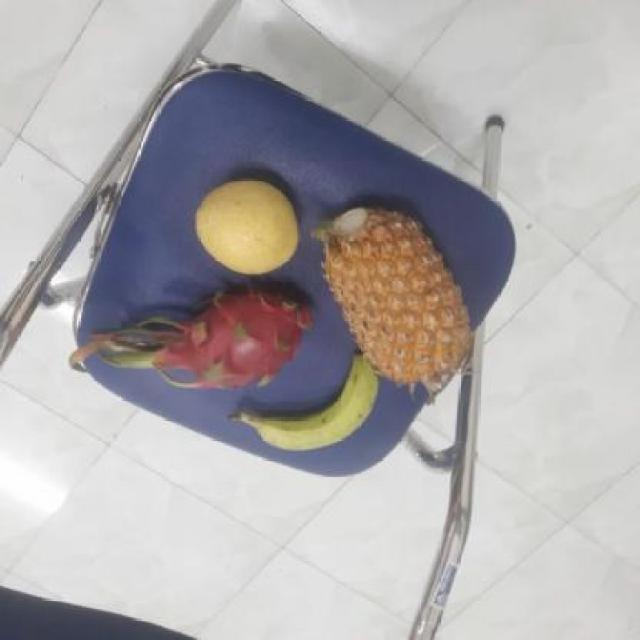banana: (243, 357, 386, 452)
dragon fruit: (147, 282, 319, 389)
pear: (191, 176, 303, 273)
pineapple: (310, 206, 476, 385)
